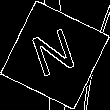N_S: (28, 25, 82, 85)
